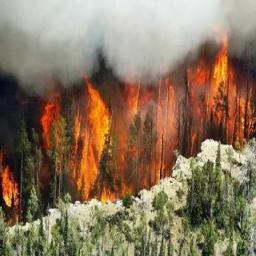Heavy smoke: (0, 0, 255, 150)
Medium fire: (0, 1, 255, 221)
